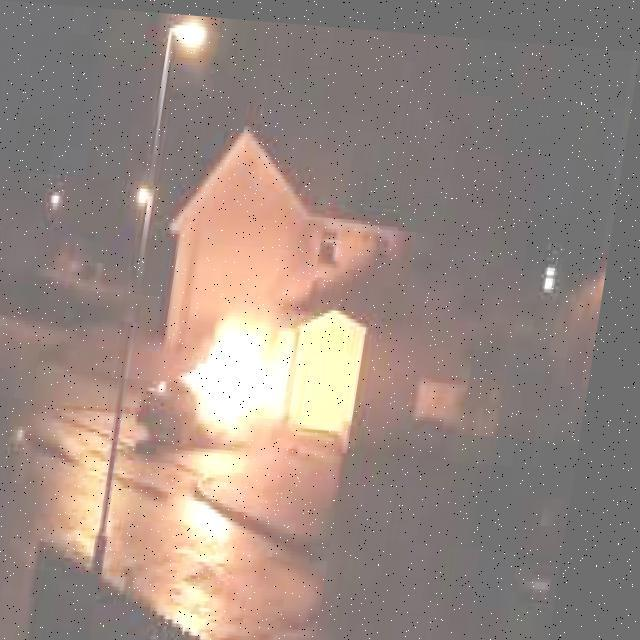Fire: (143, 302, 311, 446)
